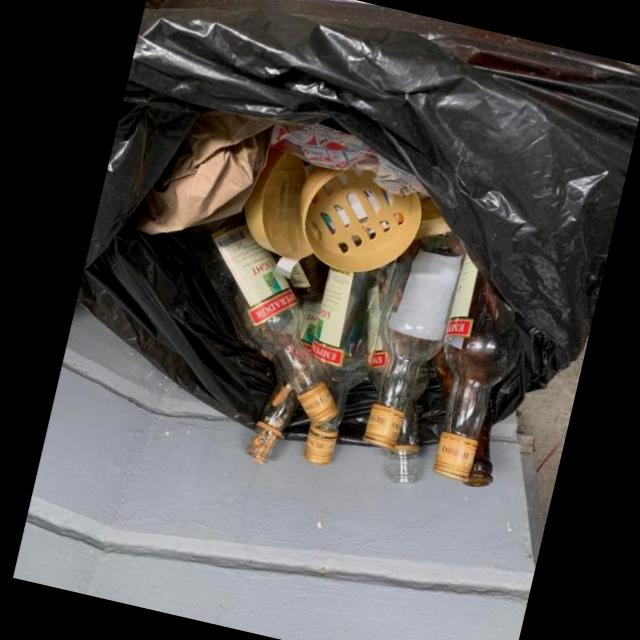chai_thuy_tinh: (187, 210, 339, 425), (362, 235, 465, 446), (432, 252, 520, 480), (304, 262, 394, 465)
giay: (131, 108, 273, 234)
